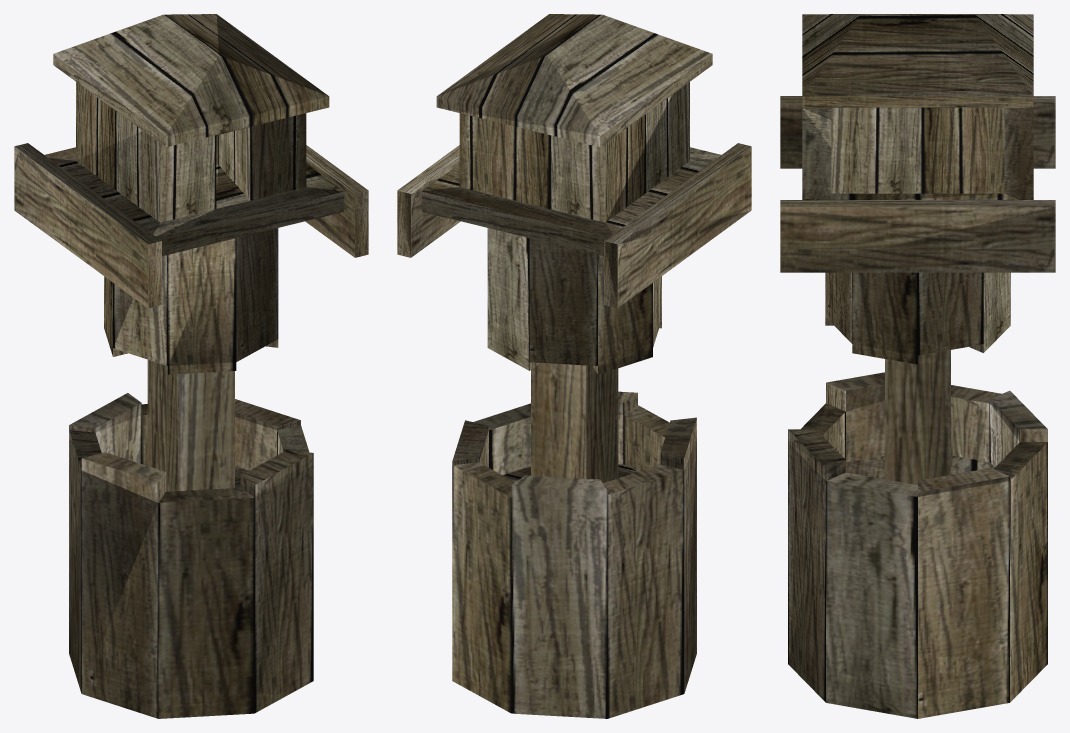
File: mailbox-spirit-house.dae
3 renders of one model, left to right at view 1: azimuth 30°, elevation 25°; view 2: azimuth 150°, elevation 25°; view 3: azimuth 270°, elevation 25°, orthographic. The views are drawn at different scales.
Parts seen in each view (by area): view 1: mailbox; view 2: mailbox; view 3: mailbox.
Part boxes in pixels (<box>): mailbox: <box>14,14,368,718</box>; mailbox: <box>397,14,751,718</box>; mailbox: <box>780,14,1055,718</box>.
Size of the model in its own units: 4.32 by 11.84 by 4.55.
Materials: 1 (1 with a texture image).
